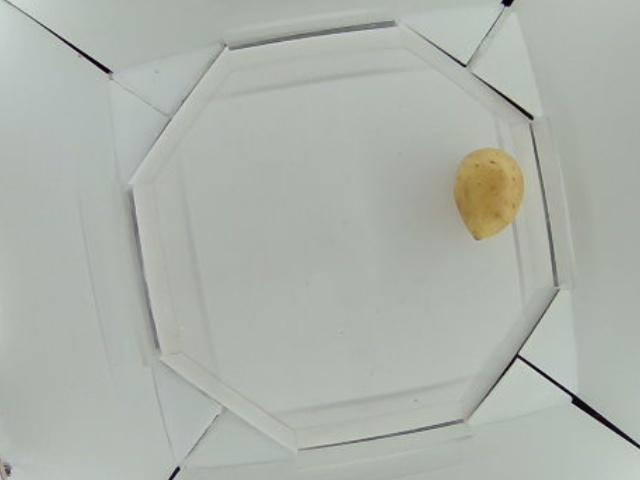Potato: (452, 148, 528, 241)
